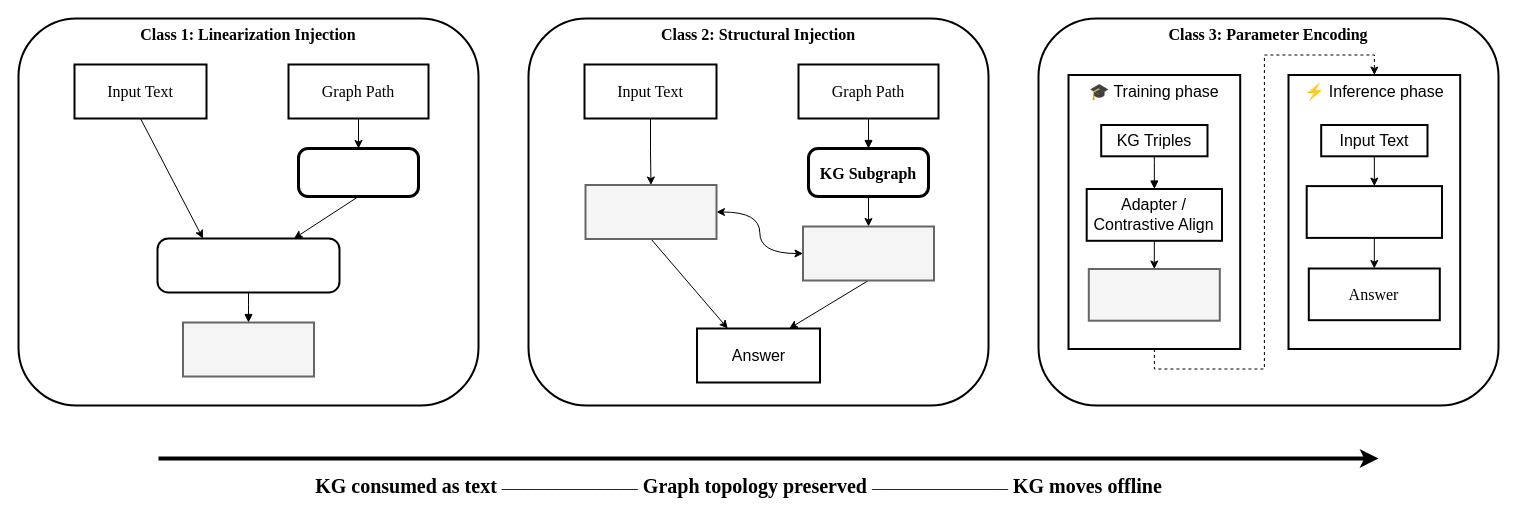
Some shapes in this 1516 by 514 pixel diagram are drawn without their labels. The shapes that lost their labels are listed below. From the top down, each one's centre as x and y in pixels, then its label:
point 358,172: Serialized
point 650,212: LM Encoder
point 1373,211: LM only (no KG)
point 248,265: Concat (as prompt/context)
point 868,253: GNN Encoder
point 1153,294: LM Parameters (updated)
point 248,349: Fixed LLM🔒
